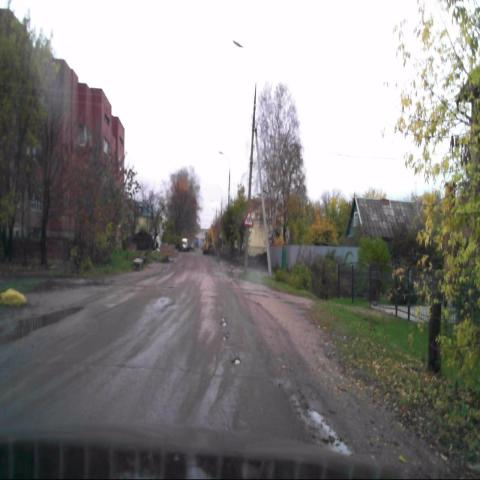1_23: (245, 211, 253, 225)
